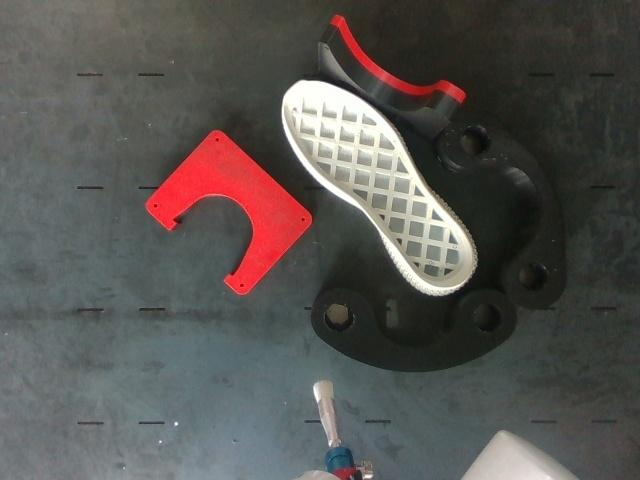shoes: (284, 81, 473, 288)
